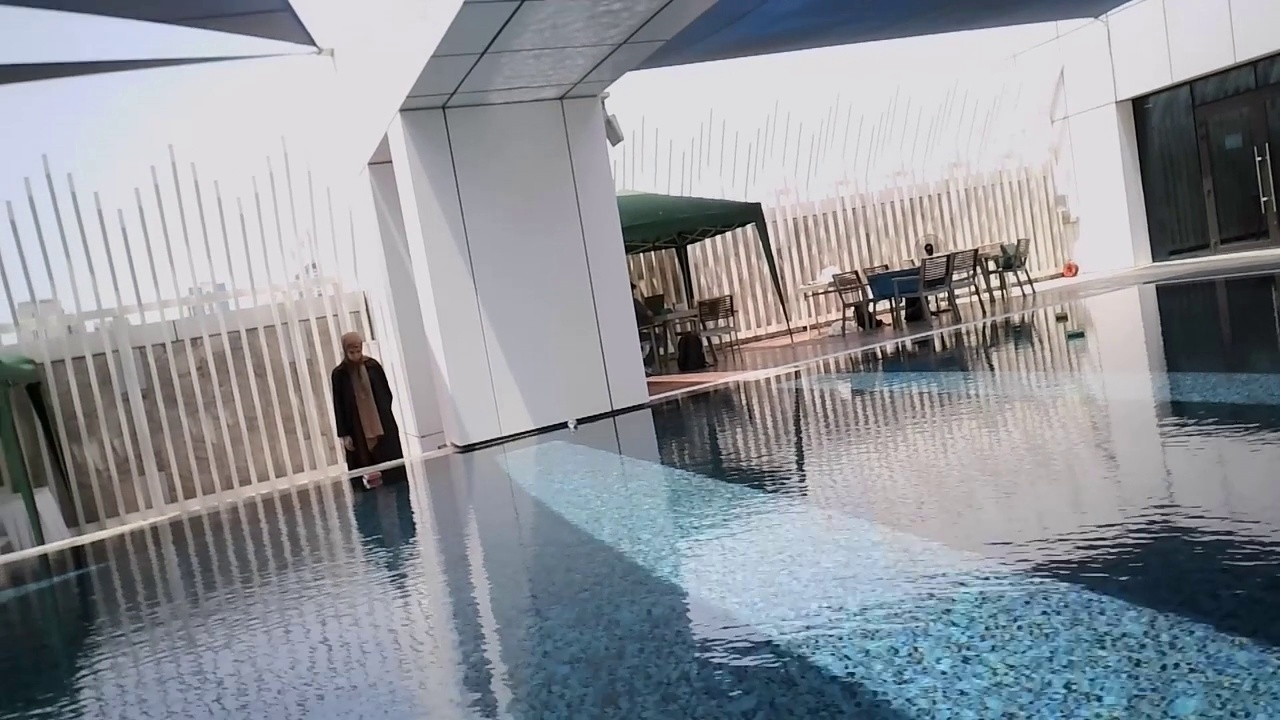debris: (1065, 326, 1088, 347), (360, 469, 383, 488), (1054, 311, 1069, 326), (565, 417, 578, 432)
